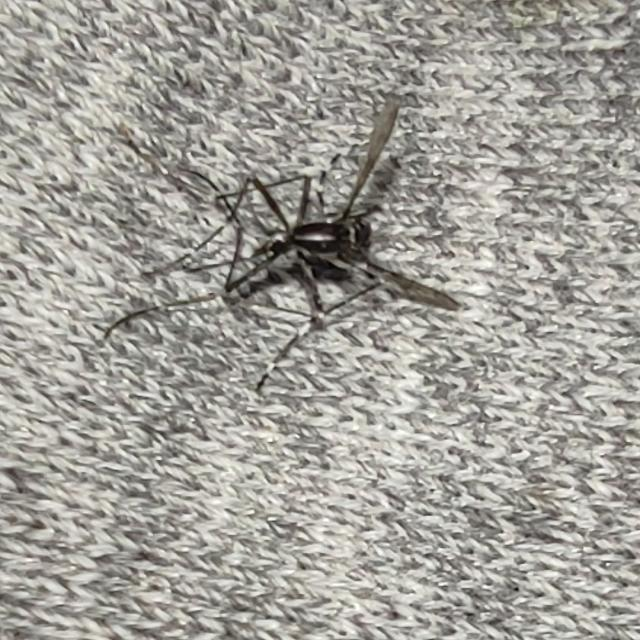albopictus: (100, 84, 478, 394)
